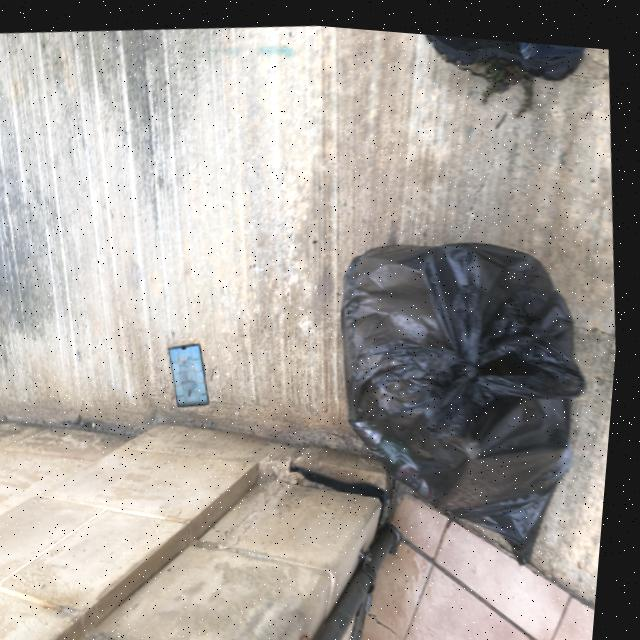Mixed Waste -Black Bag-: (324, 212, 617, 578)
